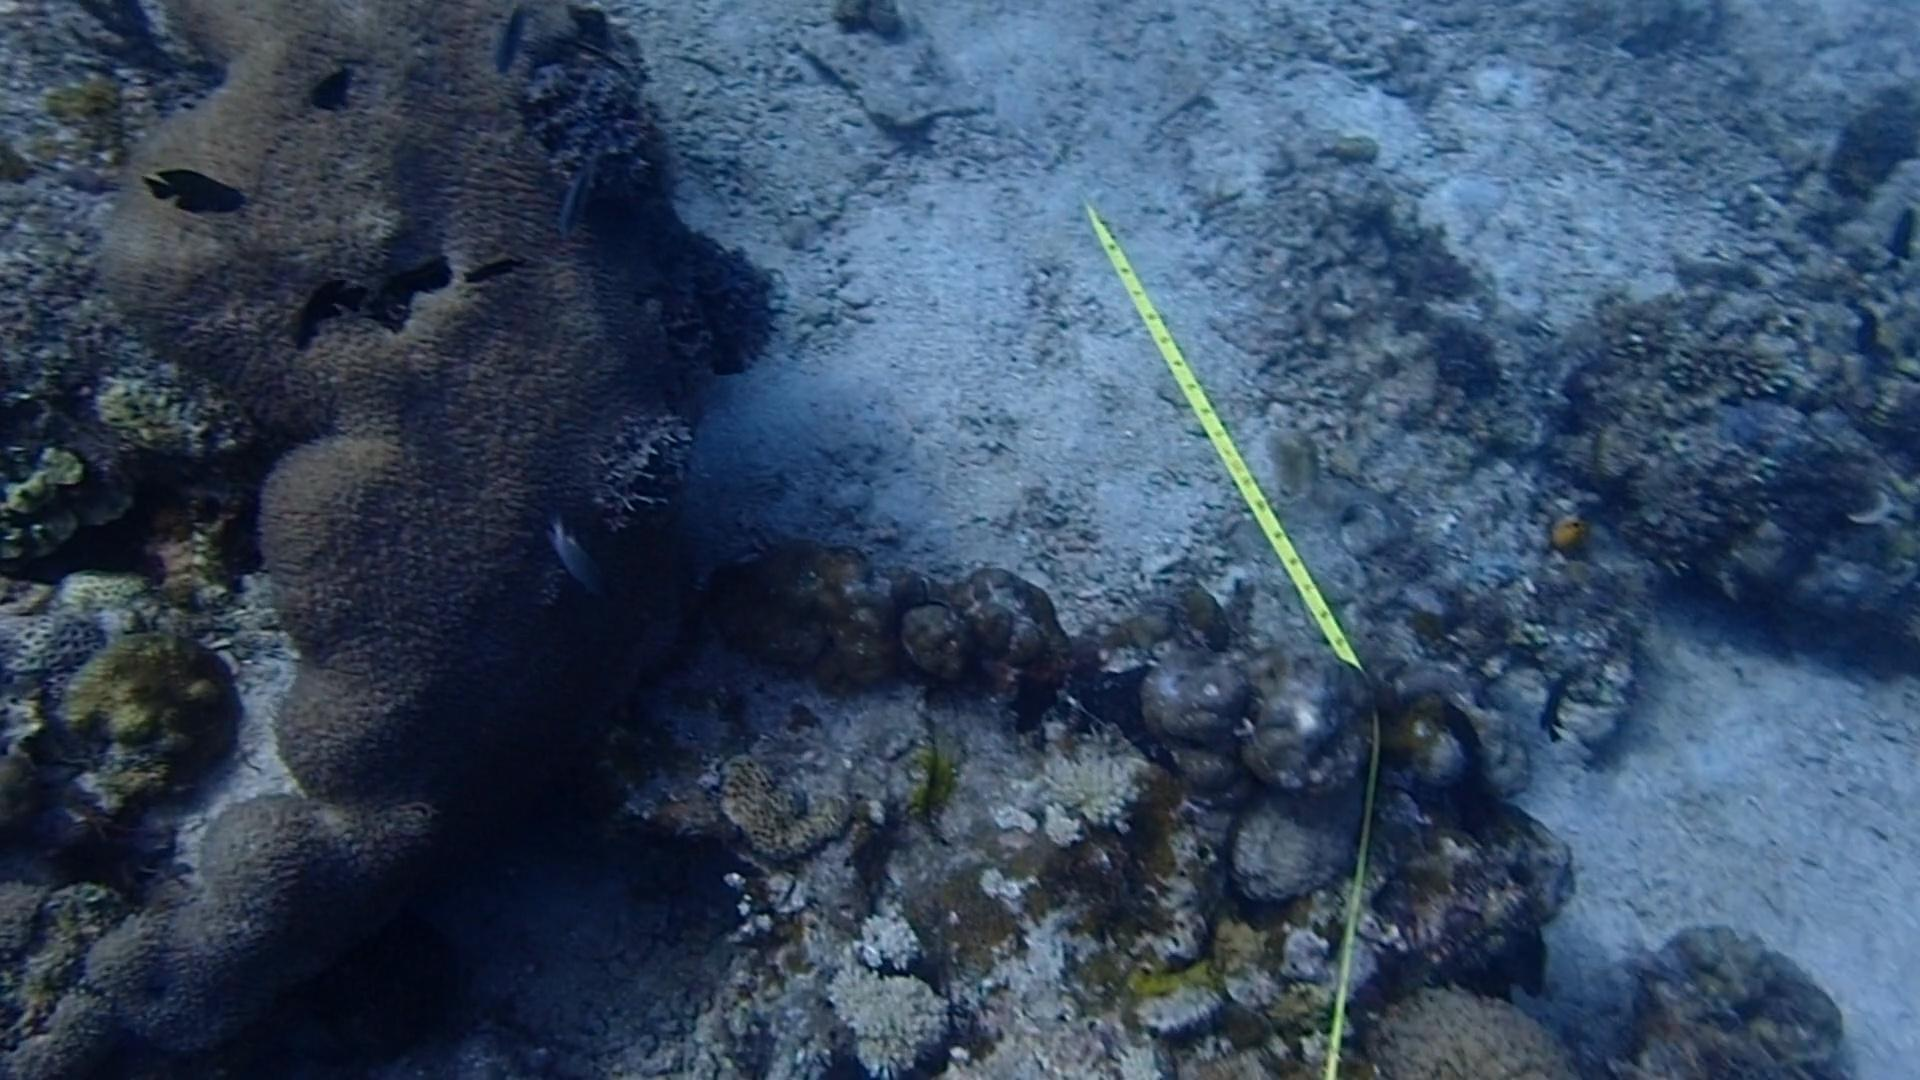Dark Fish: (265, 264, 372, 357), (127, 157, 249, 232), (1523, 665, 1590, 748), (285, 62, 369, 124), (1866, 190, 1920, 268), (1431, 686, 1480, 765), (459, 244, 530, 298), (1842, 284, 1883, 351)
Light Fish: (531, 512, 616, 607), (538, 146, 608, 239)
